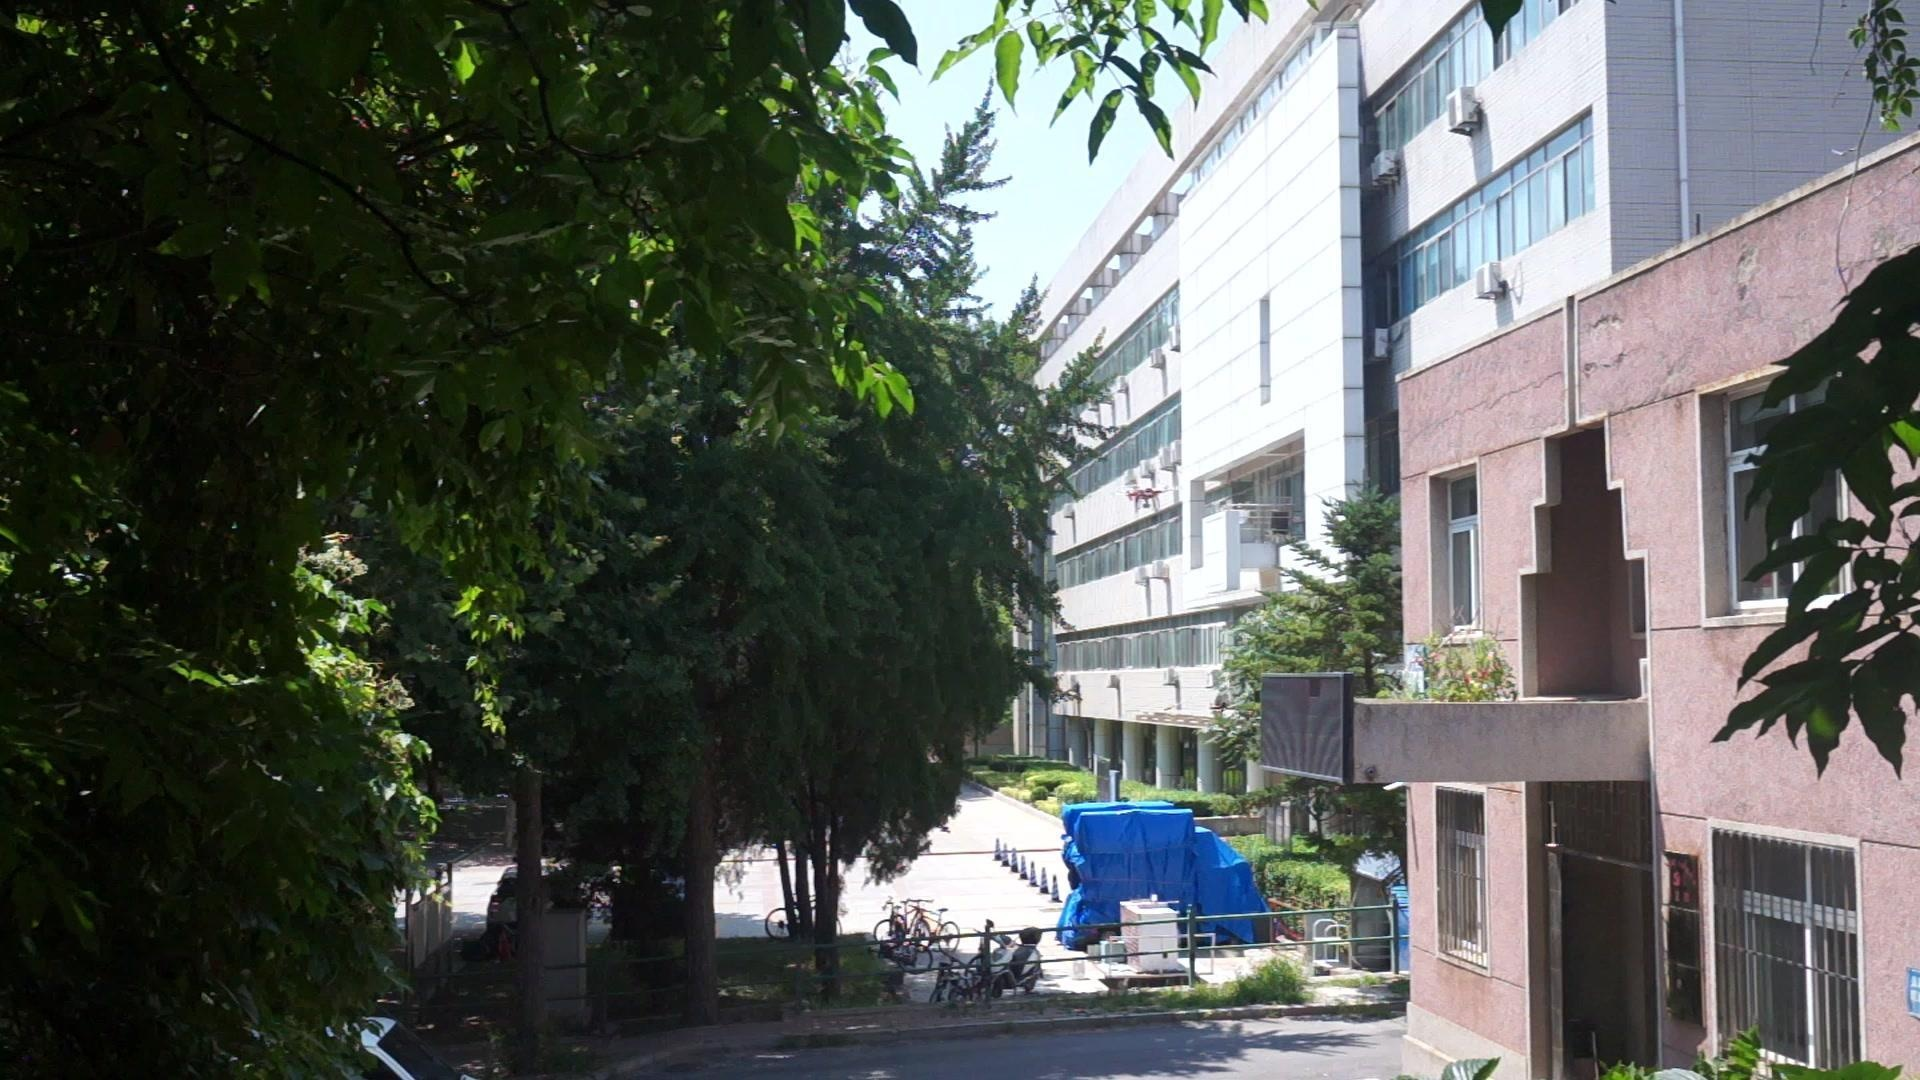UAV: (1118, 487, 1184, 512)
